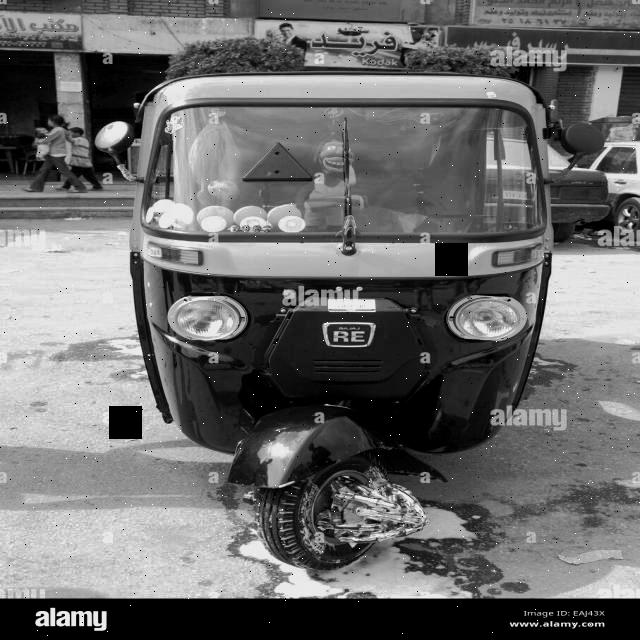Auto-Rickshaw: (91, 71, 623, 589)
